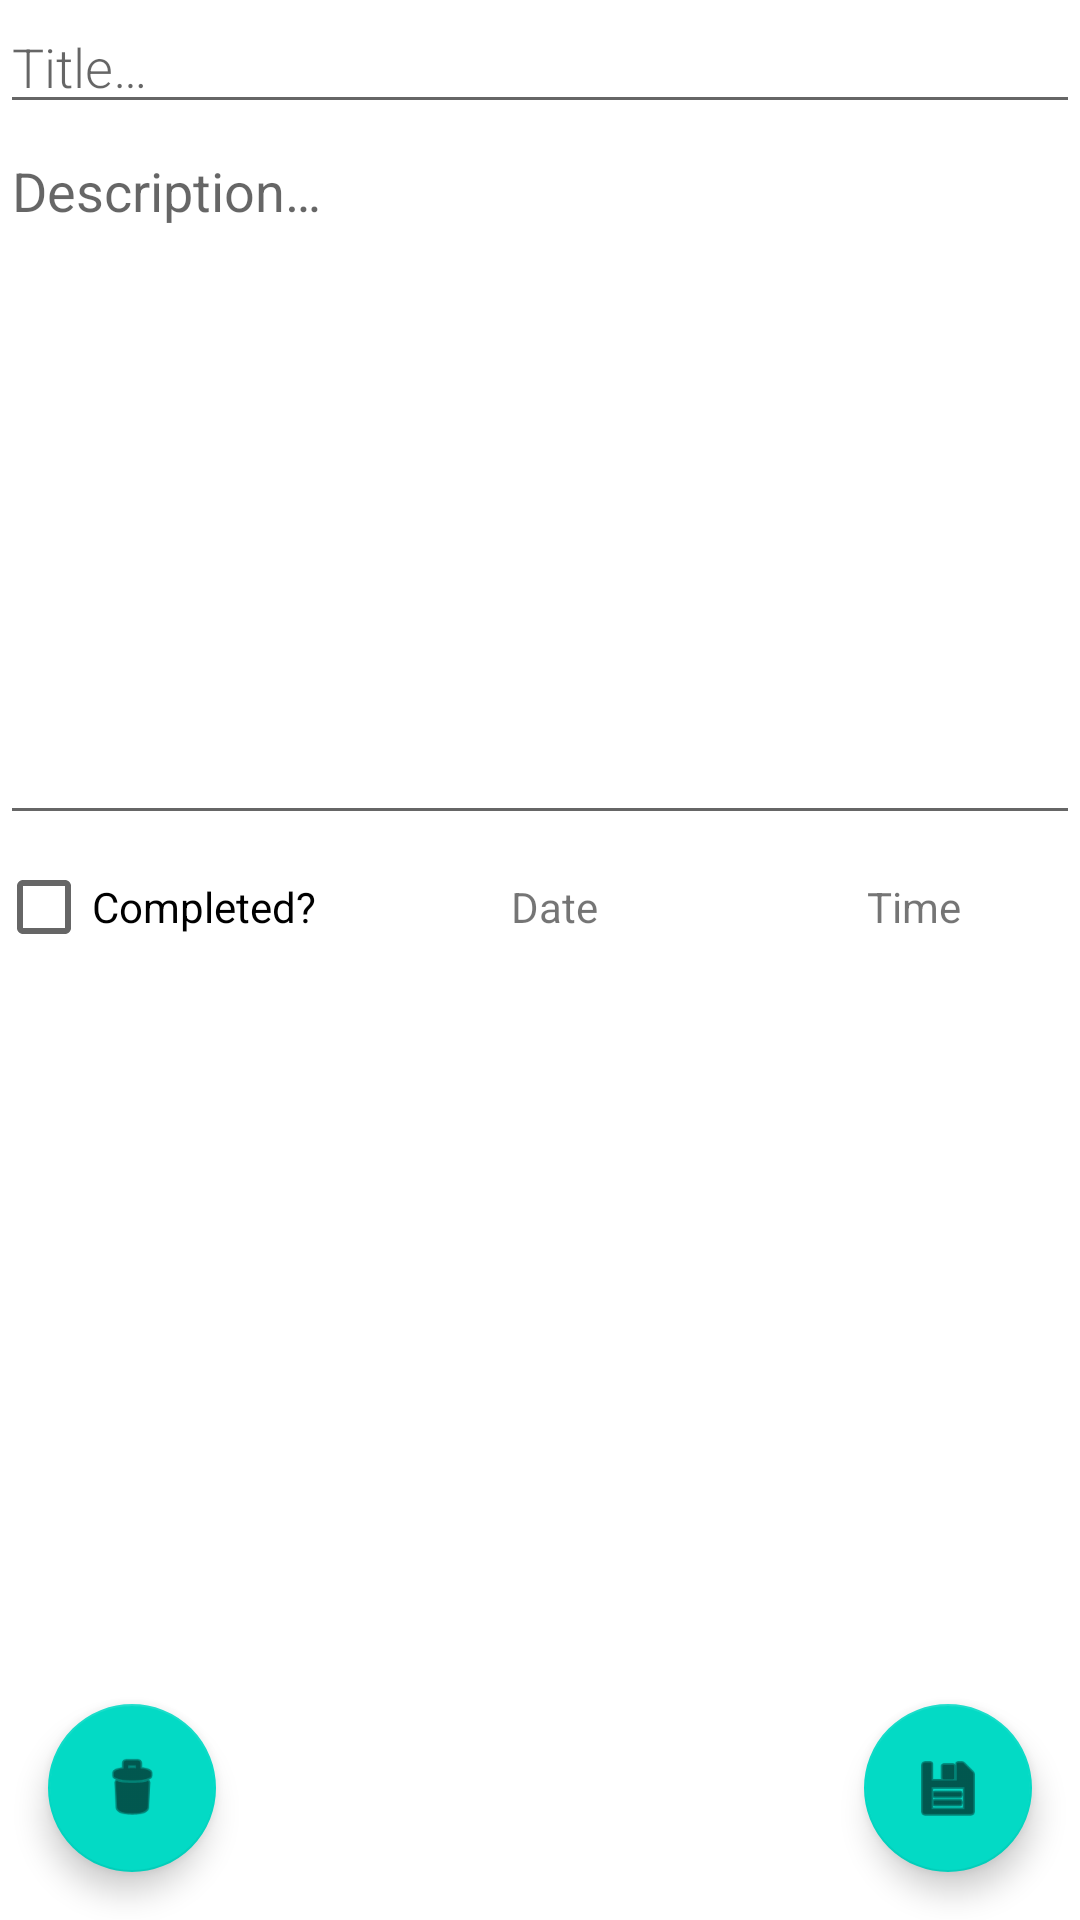

Icon bounding boxes for this 1080 x 1920 phone screenshot, format [x1,y1,x2,y2]:
delete: [48,1704,216,1872]
save: [864,1704,1032,1872]
